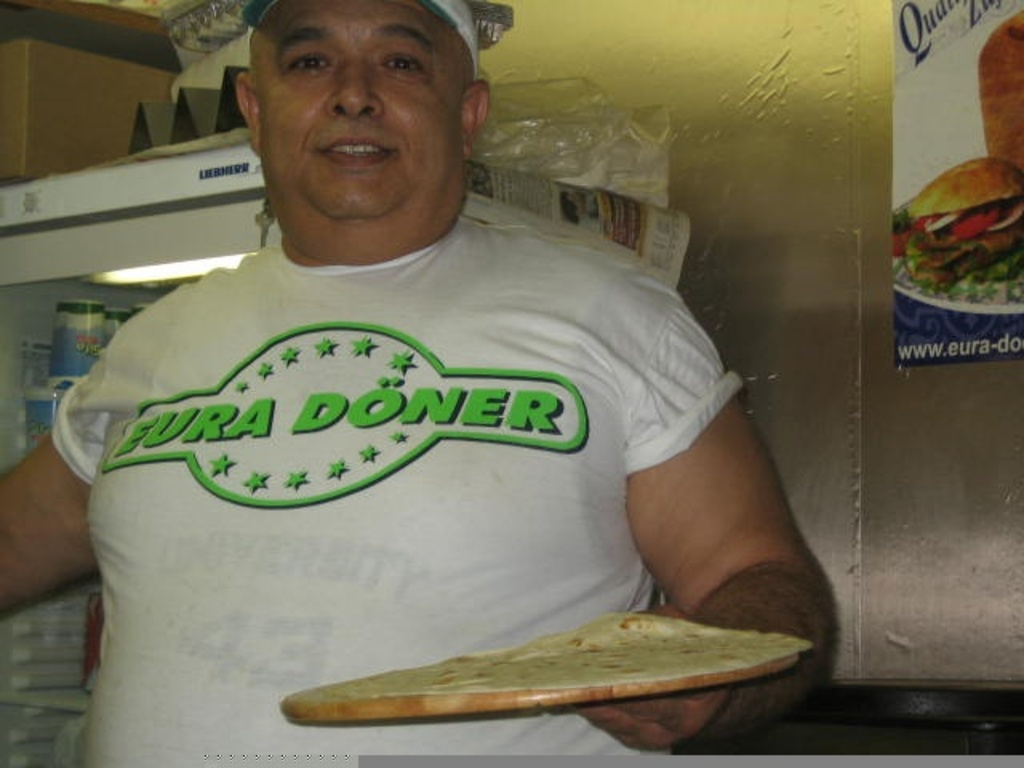Hamburger: (894, 161, 1022, 272)
